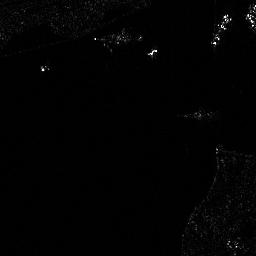ship: (210, 13, 232, 47)
